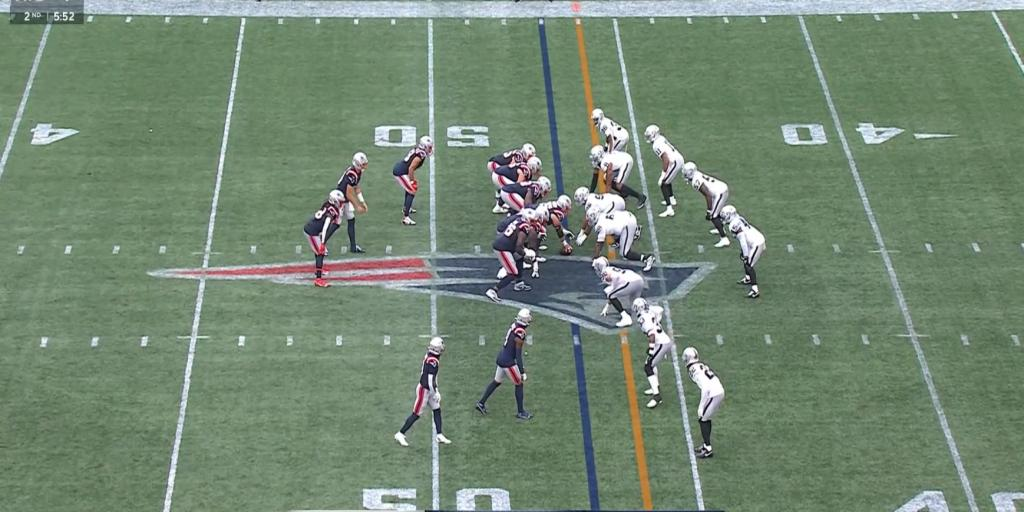player: (477, 309, 531, 419), (395, 337, 450, 445), (485, 208, 537, 301), (632, 297, 674, 408), (682, 347, 724, 457), (304, 189, 348, 286), (587, 209, 653, 270), (722, 205, 764, 297), (684, 162, 729, 246), (393, 135, 434, 224), (645, 125, 685, 216), (592, 257, 643, 326), (335, 152, 368, 252), (592, 146, 646, 206), (529, 196, 570, 245), (502, 177, 550, 211), (492, 156, 539, 189), (592, 109, 629, 150), (488, 143, 536, 171), (576, 187, 625, 213), (494, 192, 507, 211)
